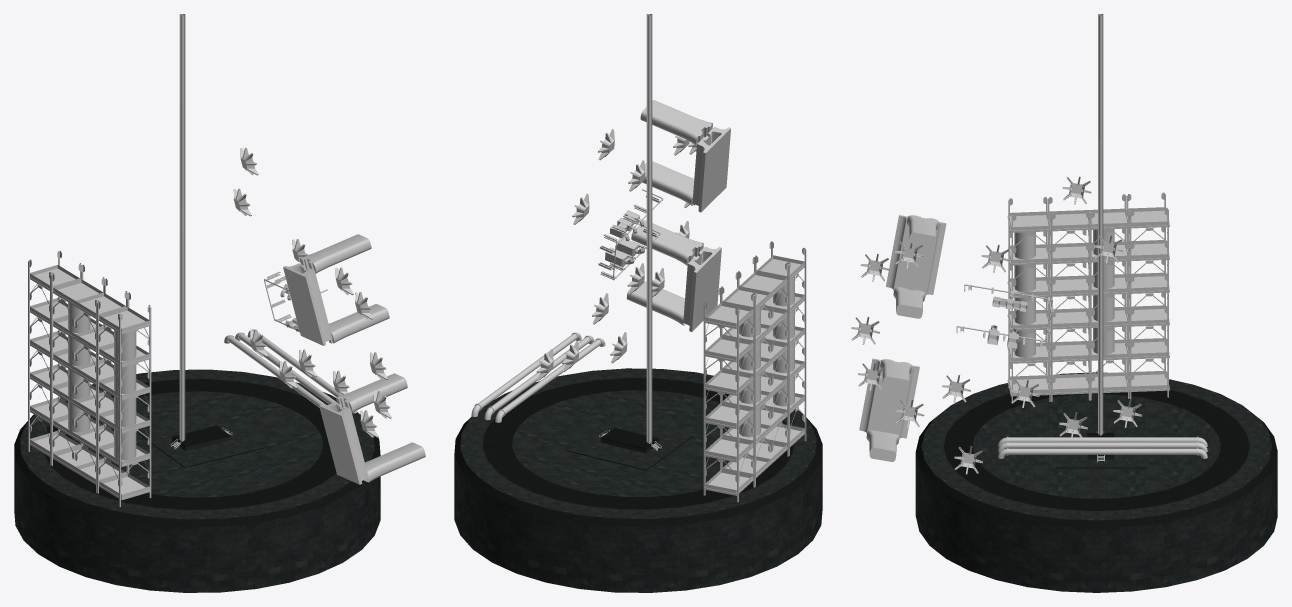
Rendered from SpaceX-Full.fbx.
3 renders of one model, left to right at view 1: azimuth 30°, elevation 25°; view 2: azimuth 150°, elevation 25°; view 3: azimuth 270°, elevation 25°, orthographic.
Visible parts, largest first — view 1: FinalBase, Box003, SM_Bridge, Cylinder003, Box001, Box002, Cylinder005, SM_Cooling_Pipes, Cylinder004, Cylinder006; view 2: FinalBase, Box003, SM_Bridge, Cylinder003, Box001, SM_Cooling_Pipes, Cylinder004, Box002, Cylinder005, Cylinder006; view 3: FinalBase, Box003, SM_Bridge, Cylinder003, Box001, Cylinder004, Cylinder006, SM_Cooling_Pipes, Cylinder005.
Part boxes in pixels (x1=…): FinalBase: x1=14, y1=369, x2=380, y2=592; Box003: x1=28, y1=251, x2=151, y2=506; SM_Bridge: x1=283, y1=234, x2=425, y2=484; Cylinder003: x1=179, y1=14, x2=185, y2=441; Box001: x1=138, y1=414, x2=263, y2=467; Box002: x1=172, y1=425, x2=230, y2=450; Cylinder005: x1=224, y1=335, x2=326, y2=407; SM_Cooling_Pipes: x1=264, y1=271, x2=327, y2=332; Cylinder004: x1=247, y1=329, x2=357, y2=413; Cylinder006: x1=235, y1=332, x2=336, y2=404; FinalBase: x1=454, y1=368, x2=822, y2=592; Box003: x1=703, y1=241, x2=806, y2=502; SM_Bridge: x1=626, y1=100, x2=730, y2=331; Cylinder003: x1=646, y1=14, x2=652, y2=443; Box001: x1=567, y1=416, x2=692, y2=470; SM_Cooling_Pipes: x1=598, y1=189, x2=663, y2=280; Cylinder004: x1=471, y1=332, x2=581, y2=416; Box002: x1=600, y1=428, x2=659, y2=453; Cylinder005: x1=495, y1=338, x2=605, y2=422; Cylinder006: x1=484, y1=335, x2=594, y2=420; FinalBase: x1=915, y1=372, x2=1277, y2=592; Box003: x1=1007, y1=192, x2=1169, y2=401; SM_Bridge: x1=859, y1=215, x2=946, y2=461; Cylinder003: x1=1098, y1=14, x2=1103, y2=435; Box001: x1=1055, y1=429, x2=1146, y2=468; Cylinder004: x1=998, y1=448, x2=1207, y2=458; Cylinder006: x1=998, y1=441, x2=1207, y2=452; SM_Cooling_Pipes: x1=956, y1=284, x2=1053, y2=348; Cylinder005: x1=998, y1=436, x2=1207, y2=446.
Bounding box in the file's own units: 111 × 168 × 131.
